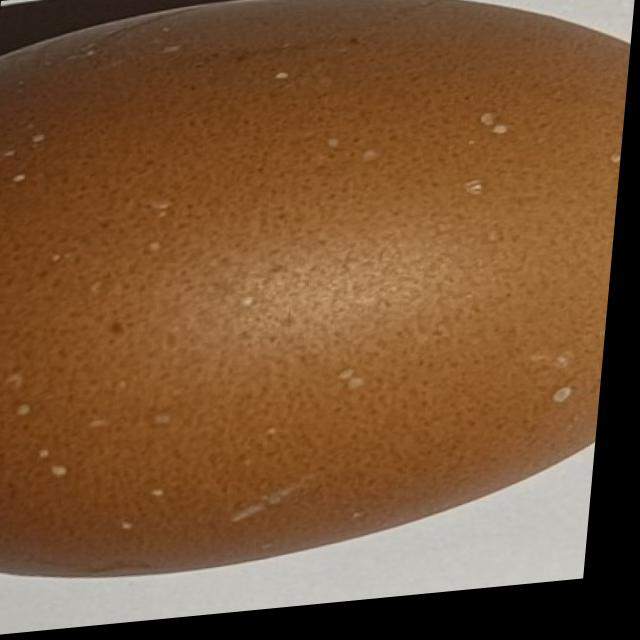unfresh: (0, 0, 639, 606)
